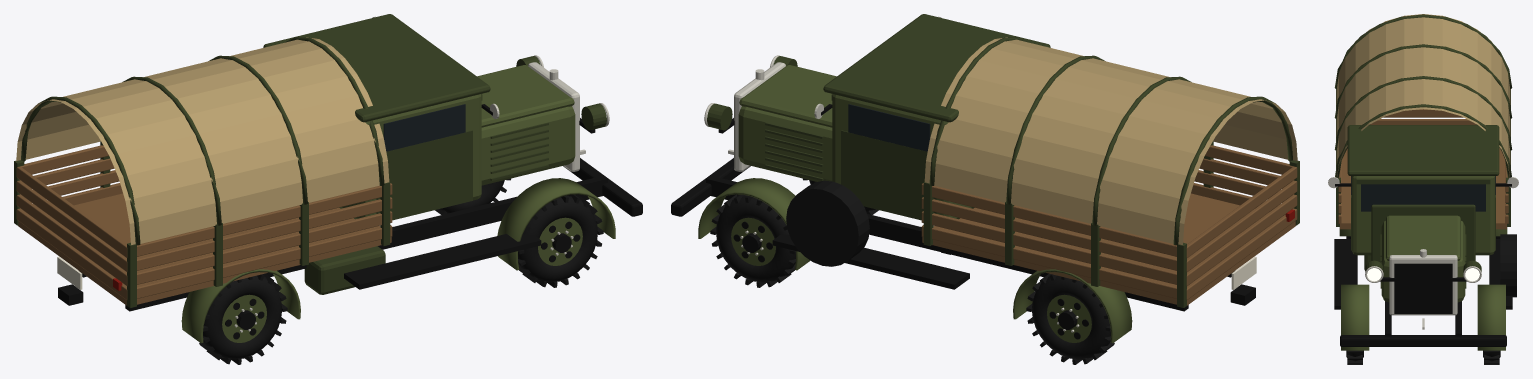
The model's file is truck.glb.
3 views of the same model, side by side, from view 1: azimuth 30°, elevation 25°; view 2: azimuth 150°, elevation 25°; view 3: azimuth 270°, elevation 25° (orthographic). The views are drawn at different scales.
Visible parts, largest first — view 1: KEEP TruckBody, KEEP TruckCanopy, KEEP WheelRR, KEEP WheelFR, KEEP WheelFL; view 2: KEEP TruckBody, KEEP TruckCanopy, KEEP WheelRL, KEEP WheelFL; view 3: KEEP TruckBody, KEEP TruckCanopy, KEEP WheelFL, KEEP WheelFR.
Boxes of the visible parts, x1=… form: KEEP TruckBody: x1=14, y1=14, x2=642, y2=343; KEEP TruckCanopy: x1=16, y1=37, x2=389, y2=245; KEEP WheelRR: x1=199, y1=273, x2=287, y2=364; KEEP WheelFR: x1=518, y1=194, x2=603, y2=287; KEEP WheelFL: x1=435, y1=178, x2=511, y2=214; KEEP TruckBody: x1=671, y1=14, x2=1299, y2=343; KEEP TruckCanopy: x1=924, y1=37, x2=1297, y2=245; KEEP WheelRL: x1=1026, y1=273, x2=1114, y2=364; KEEP WheelFL: x1=710, y1=194, x2=795, y2=287; KEEP TruckBody: x1=1328, y1=89, x2=1518, y2=350; KEEP TruckCanopy: x1=1334, y1=14, x2=1512, y2=177; KEEP WheelFL: x1=1483, y1=350, x2=1500, y2=364; KEEP WheelFR: x1=1346, y1=350, x2=1363, y2=364.
Size of the model in its own units: 5.49 by 2.49 by 2.29.
